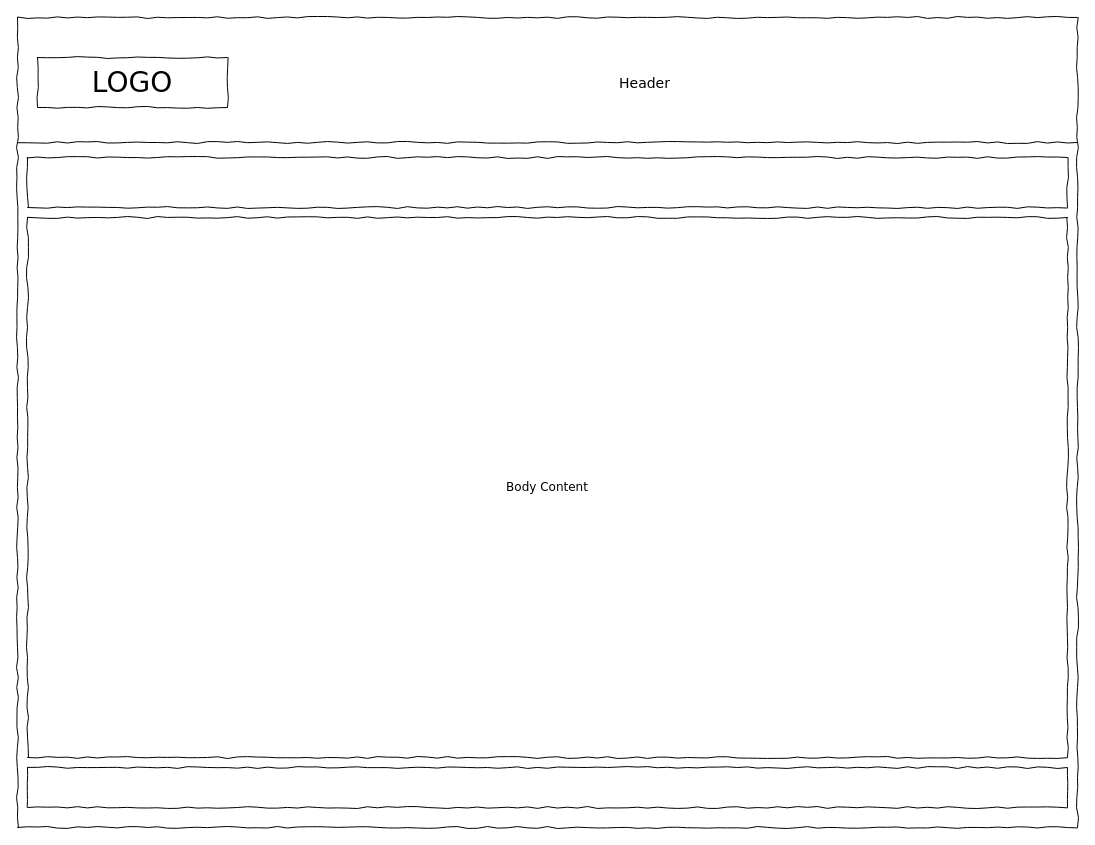
Image size: 1095x845. Some labels were removed from this diagram. Each missing label, with the box of its shape:
Footer: (26, 766, 1068, 808)
Navigation Bar: (26, 156, 1068, 208)
